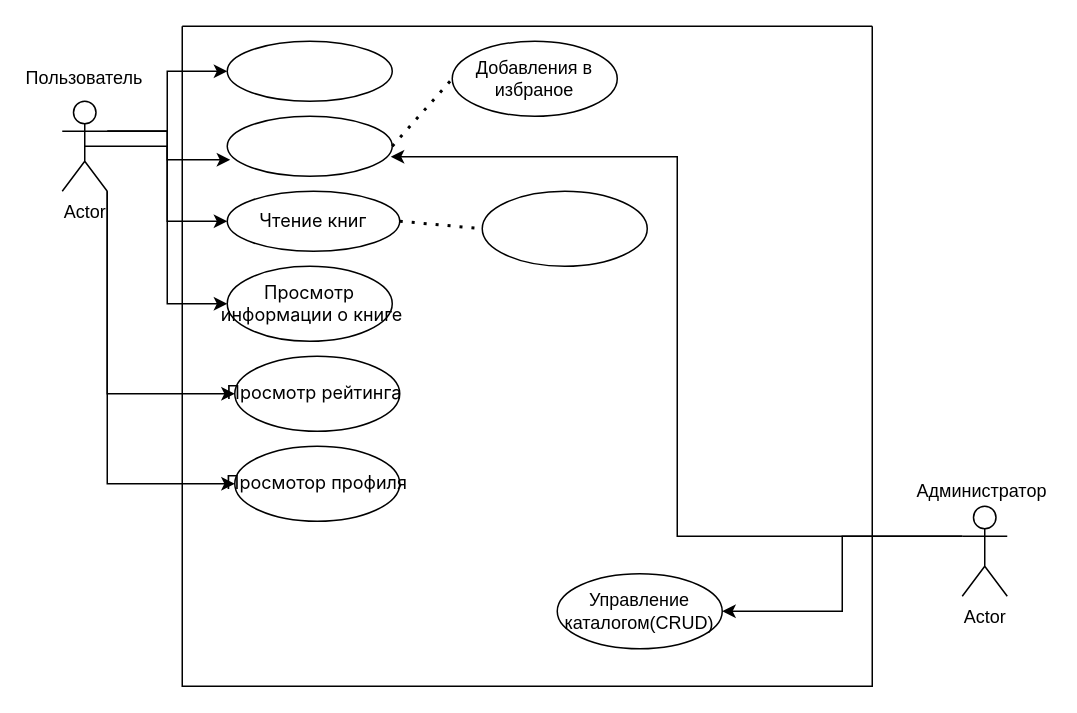
This 1077x713 diagram has some shape labels left out. Here are the shapes that lost their labels. From the top down, the box of each, then its label:
(226, 40, 392, 101): Регистрация и авторизация
(226, 115, 392, 176): Просмотр каталога книг
(481, 190, 647, 266): история чтения
